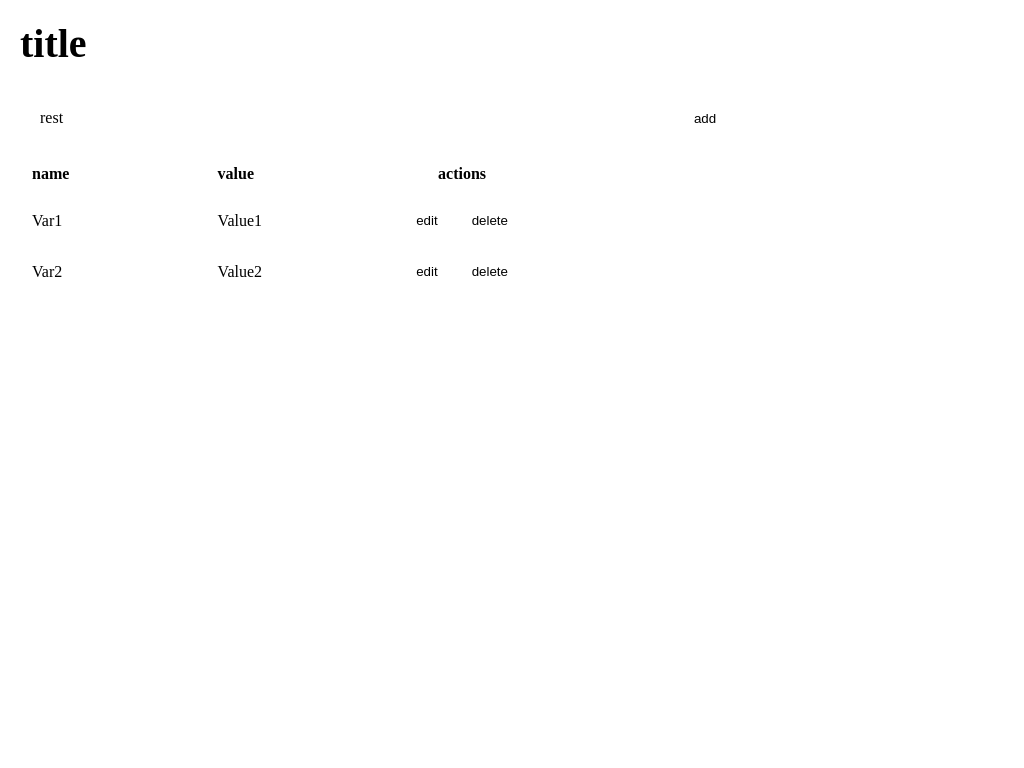
Test: VariablesTable Component › opens the "Edit Variable" modal with pre-filled data when Edit button is clicked
Click the button "edit" in the row of "Var1" at (427, 220), box [404,207,450,234]
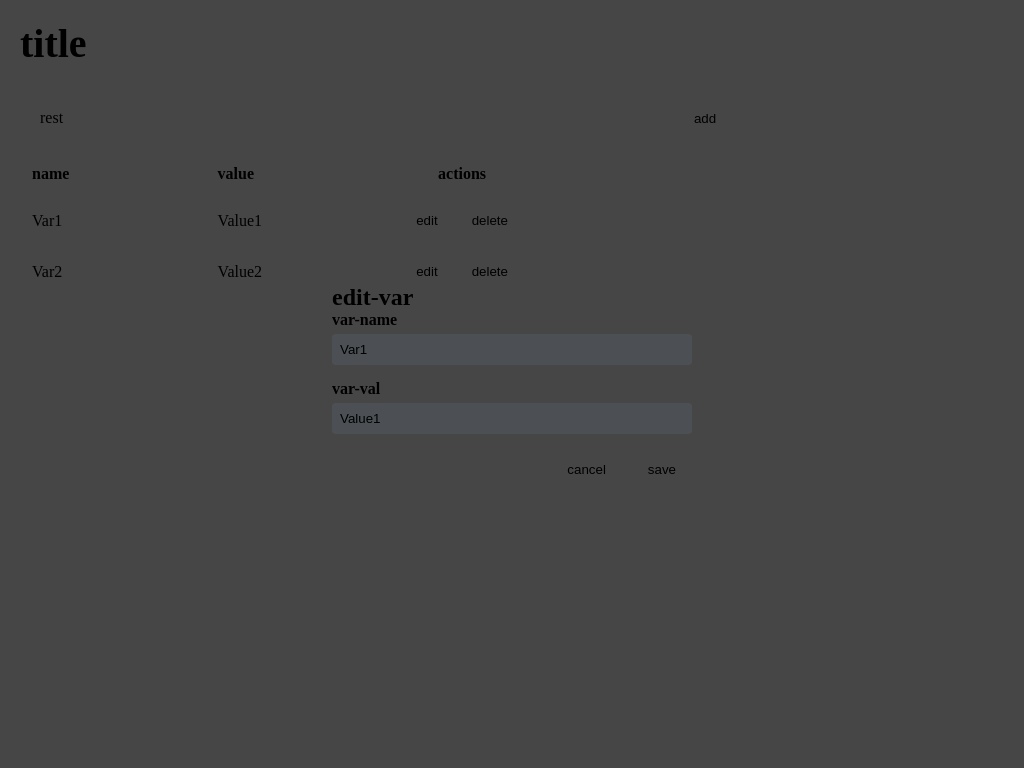
Expected: the heading "edit-var" is shown, [332,284,413,310]
Expected: the field labelled "var-name" holds "Var1", [332,334,692,364]
Expected: the field labelled "var-val" holds "Value1", [332,402,692,434]
